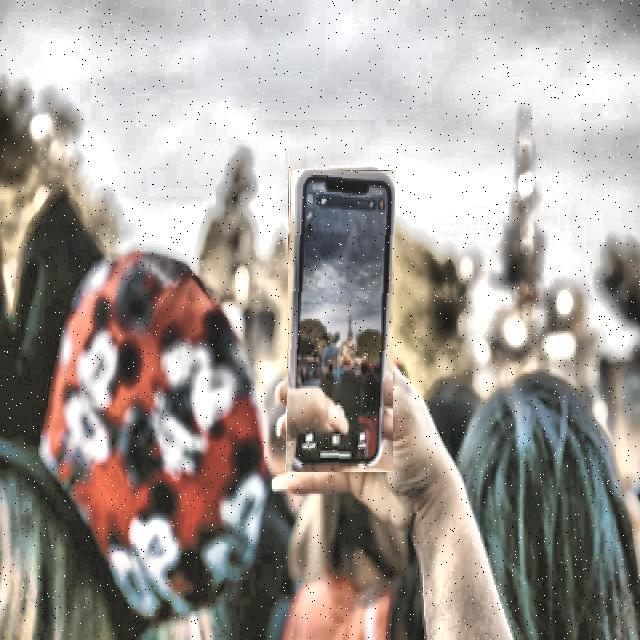Phone: (287, 170, 394, 472)
